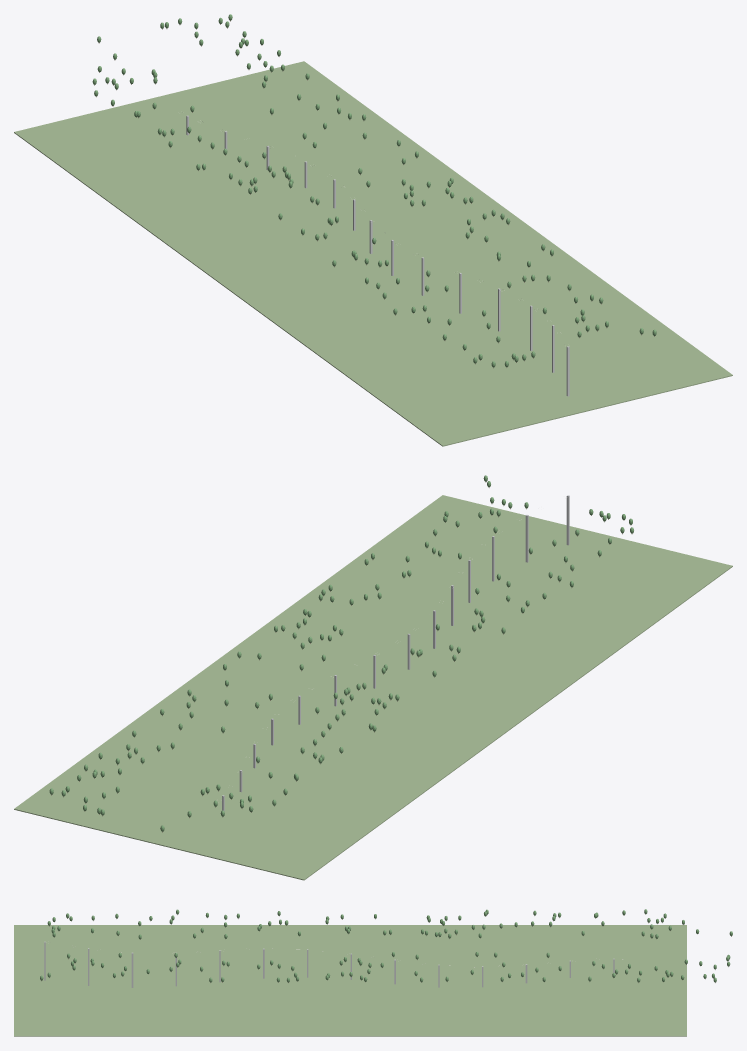
The model's file is imigrantes.glb.
The picture shows the model from 3 angles, top to bottom: view 1: azimuth 30°, elevation 25°; view 2: azimuth 150°, elevation 25°; view 3: azimuth 270°, elevation 25°; orthographic projection. The views are drawn at different scales.
Visible parts, largest first — view 1: TERRAIN_ground; view 2: TERRAIN_ground; view 3: TERRAIN_ground.
Boxes of the visible parts, x1,y1,x2,y2 form: TERRAIN_ground: (14, 61, 732, 446); TERRAIN_ground: (14, 495, 732, 880); TERRAIN_ground: (14, 925, 686, 1036).
Size of what is drawn, in the model's own units: 340 by 56 by 930.
